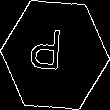P_S: (37, 28, 73, 82)
